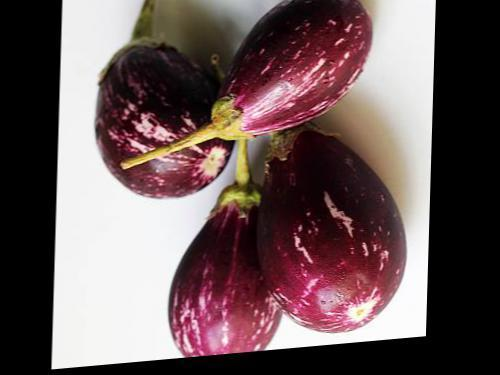eggplant: (222, 126, 416, 346), (135, 0, 373, 178), (57, 0, 237, 226), (135, 148, 297, 364)
